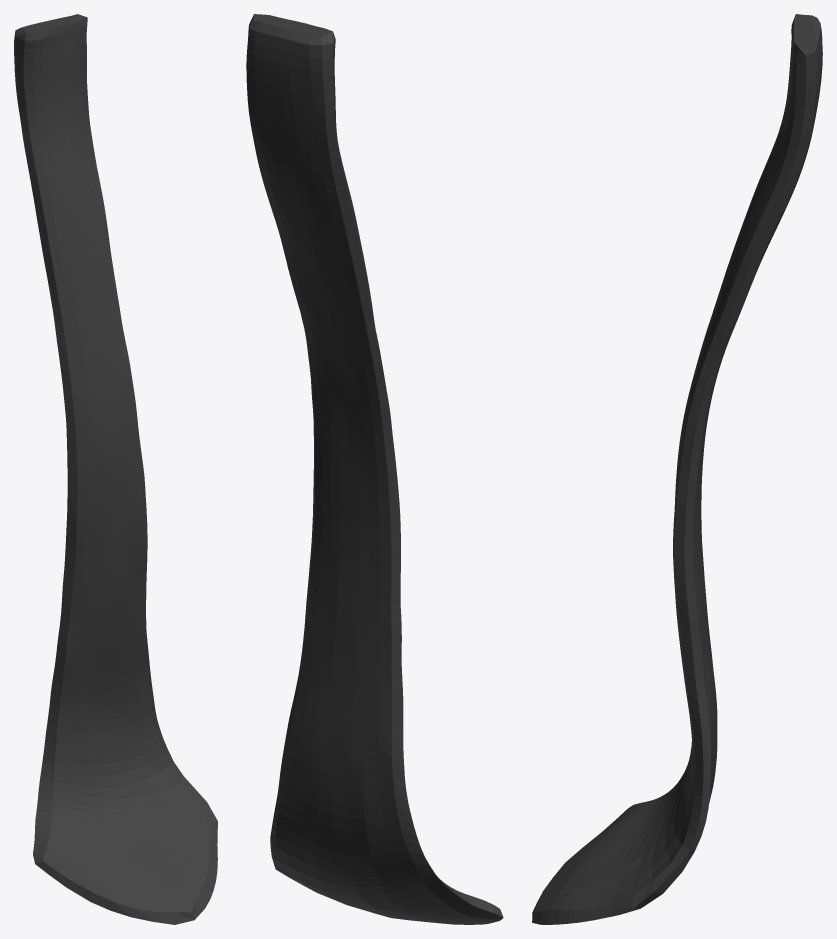
The model's file is DDF.glb.
3 renders of one model, left to right at view 1: azimuth 30°, elevation 25°; view 2: azimuth 150°, elevation 25°; view 3: azimuth 270°, elevation 25°, orthographic. The views are drawn at different scales.
Parts seen in each view (by area): view 1: DDF; view 2: DDF; view 3: DDF.
Boxes of the visible parts, x1,y1,x2,y2 form: DDF: (14, 14, 217, 924); DDF: (246, 14, 503, 924); DDF: (532, 14, 822, 924).
Bounding box in the file's own units: 1.6 × 6.78 × 2.02.
Materials: 1 (1 with a texture image).
